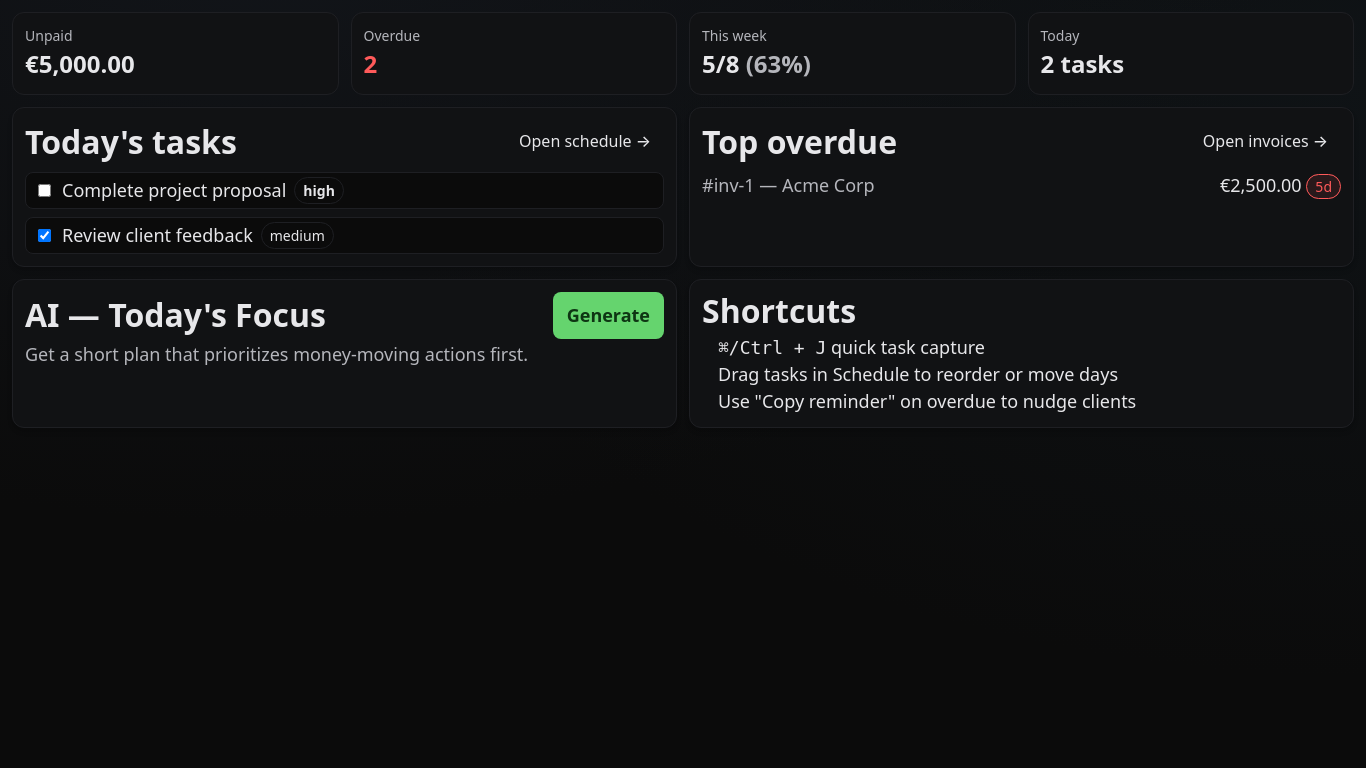
Test: FocusPage › generates AI plan when button is clicked
This screenshot has width=1366, height=768.
Click the button "Generate".
click(608, 316)  # box [553, 292, 664, 339]
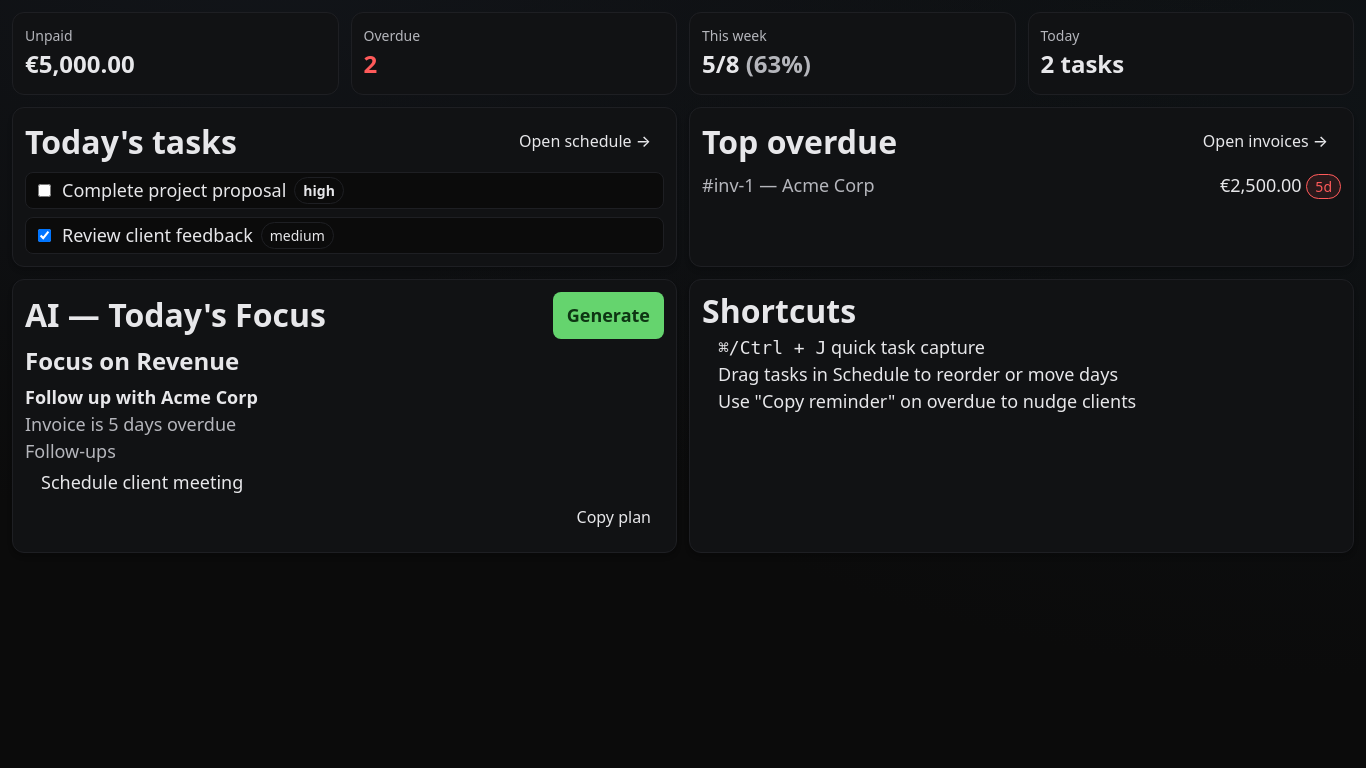
Now the heading "Focus on Revenue" is shown, box [25, 344, 239, 377]
Now the text "Follow up with Acme Corp" is shown, box [25, 385, 258, 409]
Now the text "Invoice is 5 days overdue" is shown, box [25, 412, 236, 436]
